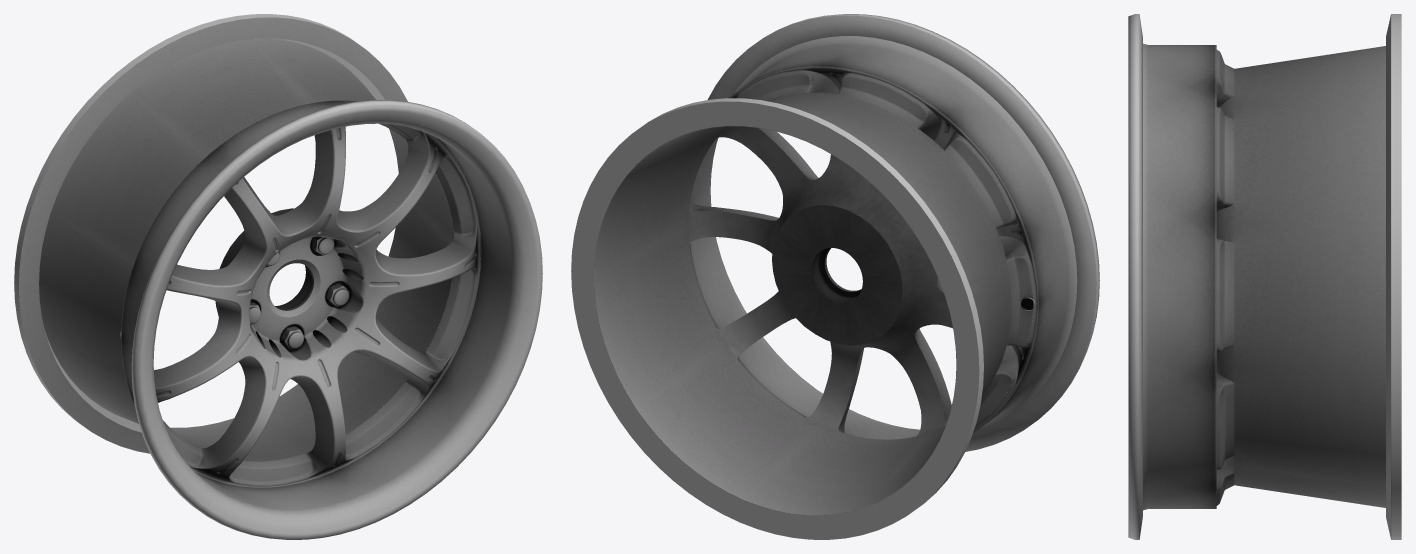
Rendered from rim.glb.
3 views of the same model, side by side, from view 1: azimuth 30°, elevation 25°; view 2: azimuth 150°, elevation 25°; view 3: azimuth 270°, elevation 25° (orthographic). The views are drawn at different scales.
Visible parts, largest first — view 1: partes z separadas_0; view 2: partes z separadas_0; view 3: partes z separadas_0.
Boxes of the visible parts, bbox=[...] form: partes z separadas_0: bbox=[14, 14, 542, 539]; partes z separadas_0: bbox=[571, 14, 1099, 539]; partes z separadas_0: bbox=[1128, 14, 1401, 539].
Size of the model in its own units: 1.9 by 1.9 by 0.9839.
Materials: 1 (1 with a texture image).
